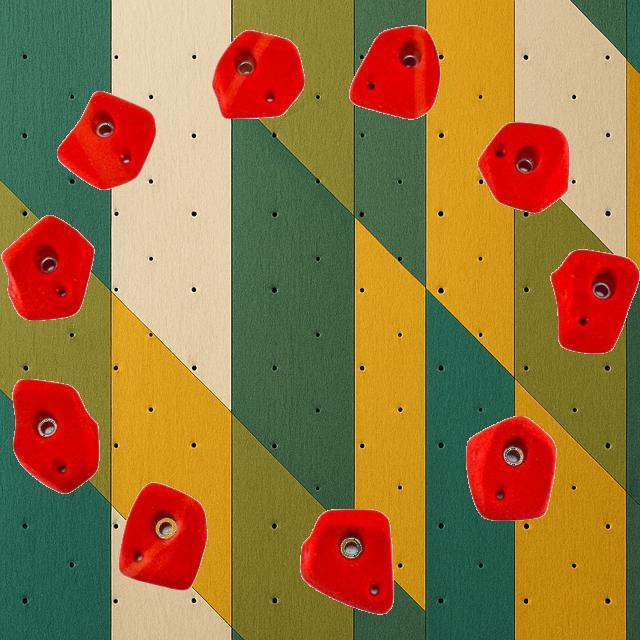Jug: (11, 378, 99, 494), (56, 90, 156, 190), (299, 508, 393, 614), (1, 215, 94, 321), (465, 415, 557, 521), (118, 482, 206, 590), (550, 248, 638, 354), (348, 24, 439, 120), (477, 121, 569, 213), (211, 29, 305, 119)
